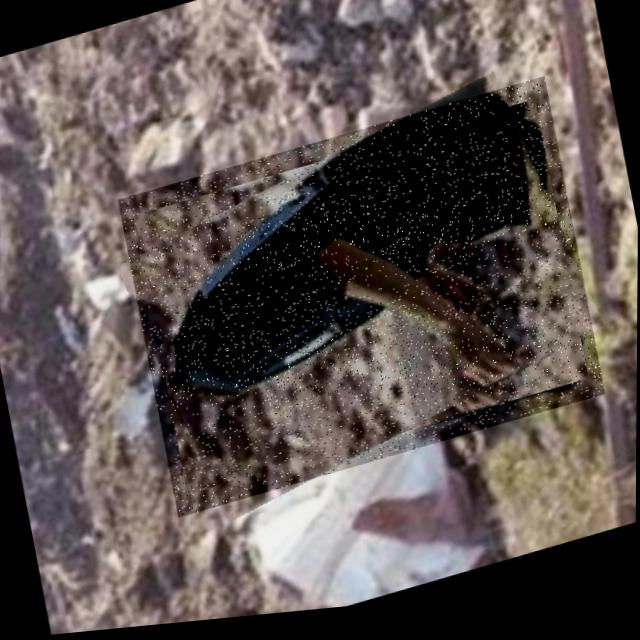Person in Rubble: (116, 81, 608, 525)
